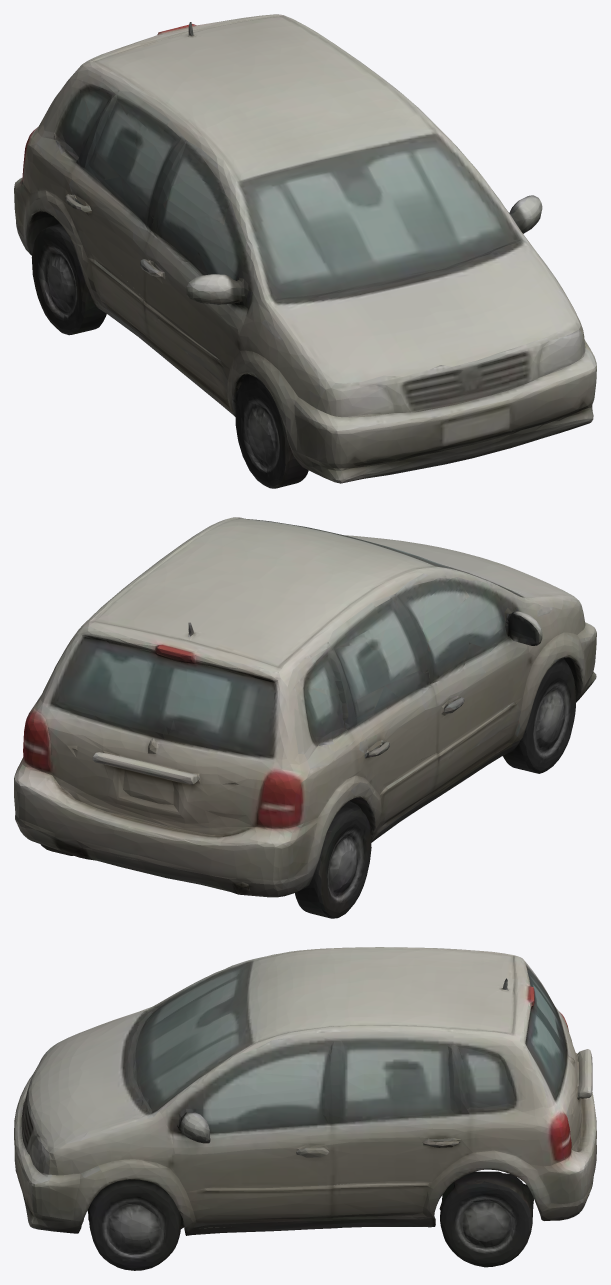
The model's file is car.glb.
3 views of the same model, one above another, from view 1: azimuth 30°, elevation 25°; view 2: azimuth 150°, elevation 25°; view 3: azimuth 270°, elevation 25° (orthographic). The views are drawn at different scales.
Parts seen in each view (by area): view 1: world; view 2: world; view 3: world.
Part boxes in pixels (bbox=[...]): world: bbox=[14, 14, 596, 488]; world: bbox=[14, 517, 596, 918]; world: bbox=[14, 947, 596, 1270].
Size of the model in its own units: 0.6018 by 0.441 by 0.9989.
1 material, 1 textured.
